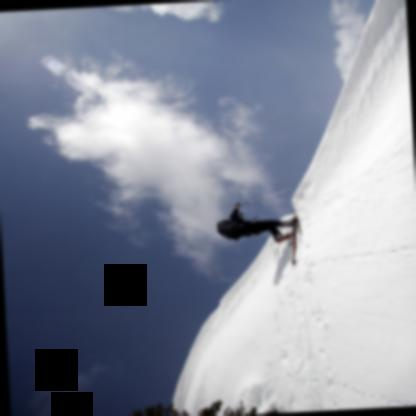backpack: (217, 219, 241, 239)
